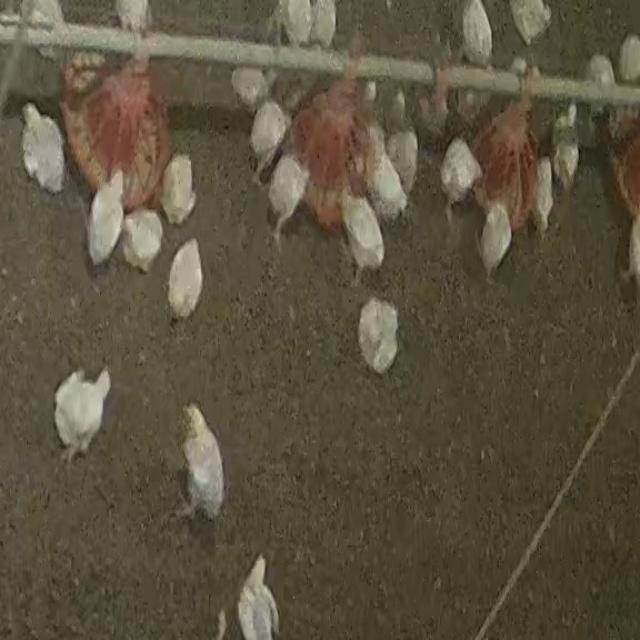chicken: (54, 366, 112, 463), (177, 404, 224, 520), (339, 189, 387, 281), (266, 152, 310, 250), (20, 102, 66, 194), (363, 137, 409, 225), (88, 170, 128, 268), (385, 88, 418, 200), (237, 556, 280, 640), (249, 97, 293, 178), (438, 136, 484, 213), (356, 298, 399, 377), (21, 0, 70, 63), (121, 207, 166, 272), (168, 238, 204, 318), (160, 153, 198, 227), (478, 202, 514, 271), (552, 102, 581, 184), (460, 0, 495, 66), (275, 0, 317, 50), (508, 0, 552, 47), (528, 158, 554, 232), (229, 66, 270, 109), (309, 0, 338, 49), (113, 0, 154, 31), (588, 53, 616, 93), (618, 34, 640, 81)
